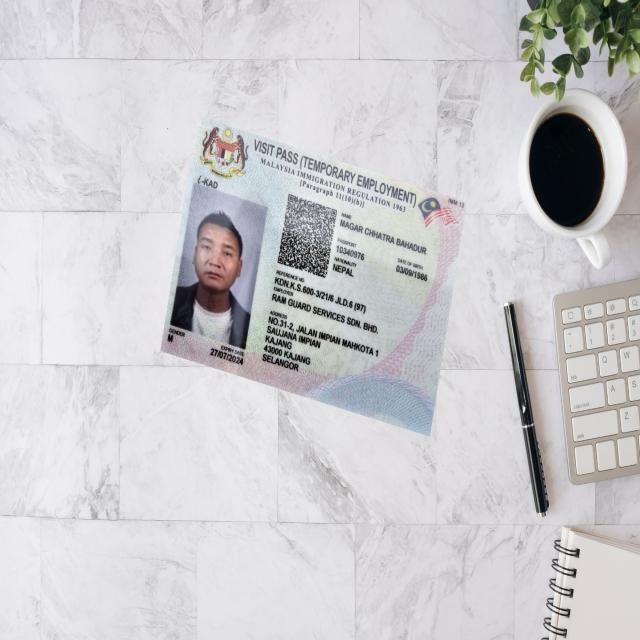ikad-temp: (156, 110, 470, 445)
